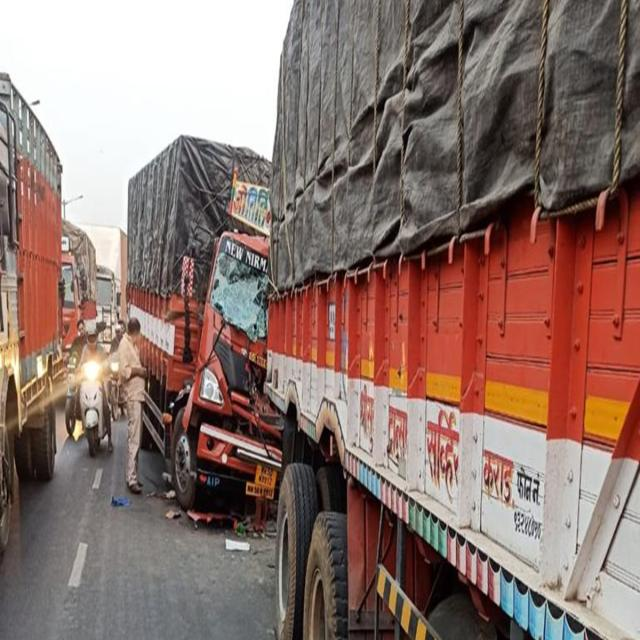accident: (128, 135, 281, 516)
truck: (264, 1, 640, 639), (0, 72, 64, 552)
